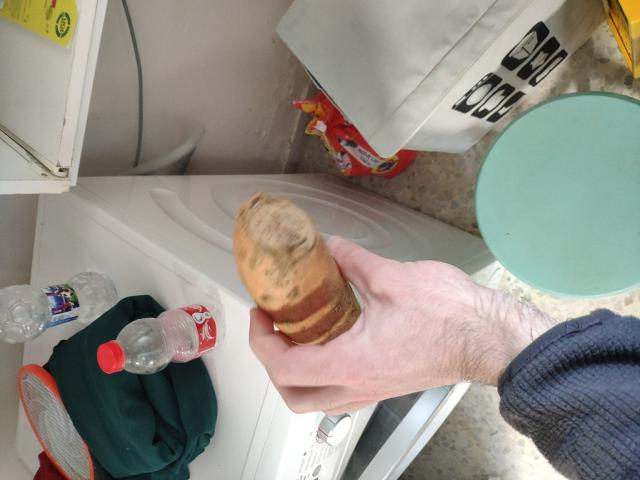sweet_potato: (228, 221, 358, 351)
